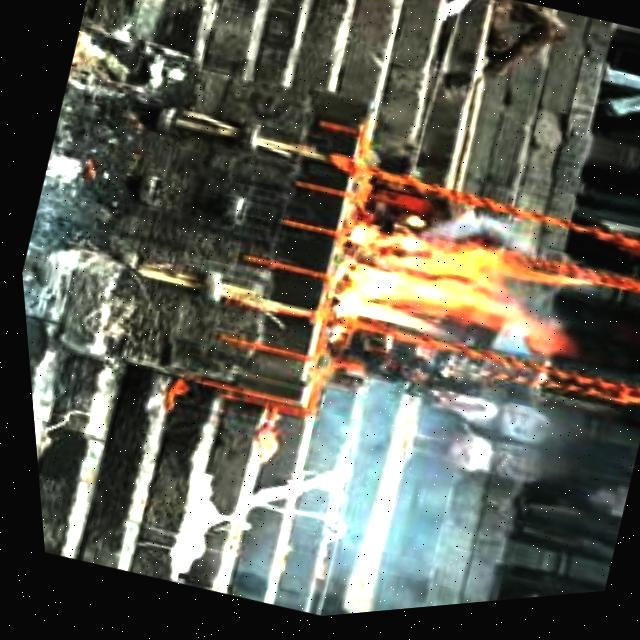Fire: (314, 209, 565, 400)
